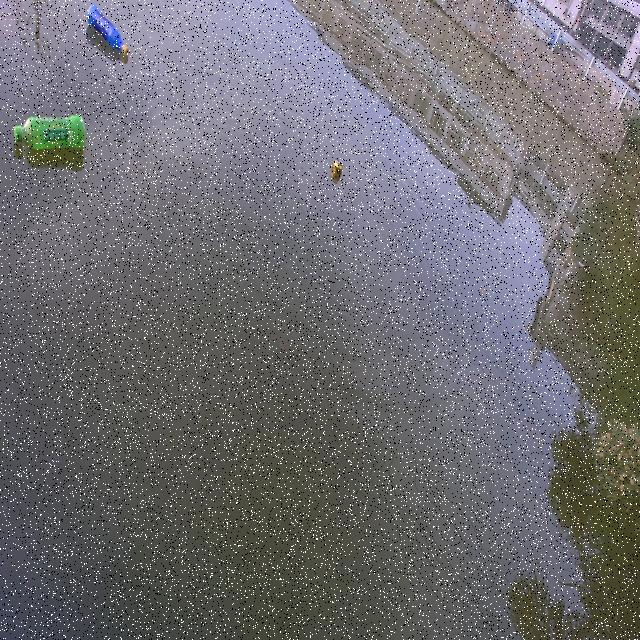Bottle: (11, 109, 88, 155), (85, 3, 129, 59)
Can: (327, 153, 346, 185)
